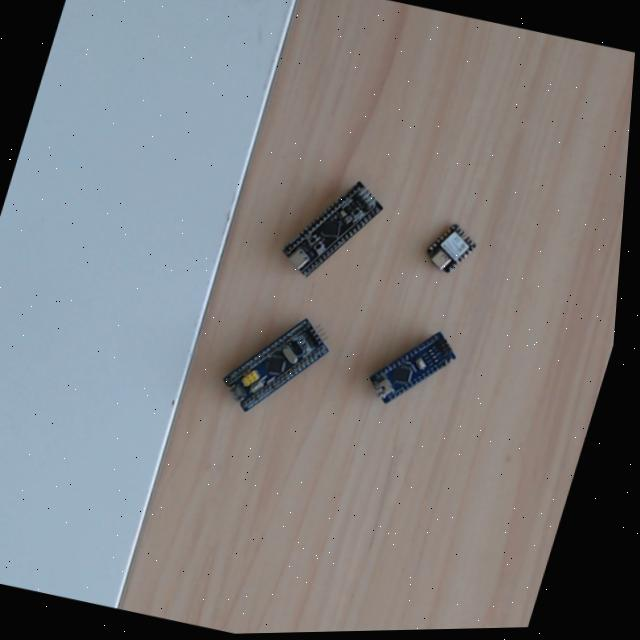Arduino-Nano: (365, 327, 461, 408)
ESP32C3-Xiao: (418, 217, 480, 279)
STM32-Blackpill: (279, 177, 388, 280)
STM32-Bluepill: (219, 314, 333, 415)
